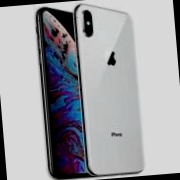iphone: (80, 4, 139, 177)
